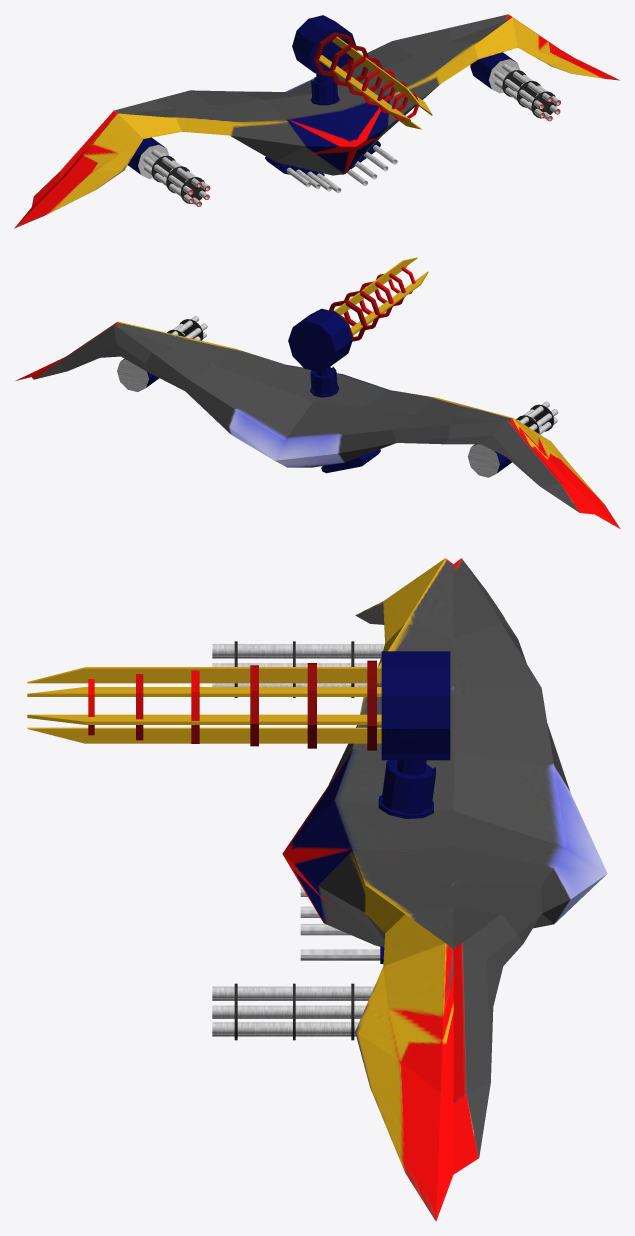
File: Last Boss.fbx
3 views of the same model, one above another, from view 1: azimuth 30°, elevation 25°; view 2: azimuth 150°, elevation 25°; view 3: azimuth 270°, elevation 25° (orthographic). The views are drawn at different scales.
Parts seen in each view (by area): view 1: ship_body, polySurface7, polySurface8 (×2), Cannon, Gatling_L, Gatling_L1, cannon_stand; view 2: ship_body, Cannon, polySurface7, polySurface8 (×2), Gatling_L1, Gatling_L, cannon_stand, Small_cannon; view 3: ship_body, polySurface7, polySurface8 (×2), Cannon, cannon_stand, pPipe3.
Boxes of the visible parts, x1,y1,x2,y2 form: ship_body: (14, 14, 620, 228); polySurface7: (313, 32, 432, 129); polySurface8 (×2): (143, 64, 560, 206); Cannon: (292, 15, 355, 78); Gatling_L: (470, 52, 520, 93); Gatling_L1: (128, 137, 169, 178); cannon_stand: (310, 74, 339, 105); ship_body: (15, 321, 620, 528); Cannon: (288, 308, 352, 371); polySurface7: (329, 257, 428, 341); polySurface8 (×2): (171, 316, 558, 434); Gatling_L1: (467, 444, 511, 477); Gatling_L: (117, 358, 159, 391); cannon_stand: (310, 366, 338, 397); Small_cannon: (321, 449, 380, 473); ship_body: (282, 558, 607, 1221); polySurface7: (27, 660, 381, 750); polySurface8 (×2): (212, 641, 384, 1040); Cannon: (381, 651, 450, 760); cannon_stand: (378, 760, 435, 818); pPipe3: (300, 949, 380, 960).
Size of the model in its own units: 128 by 29.81 by 53.19.
